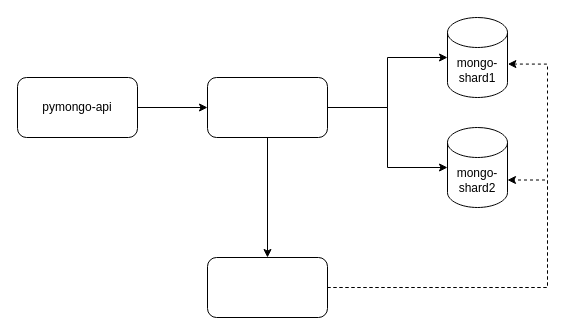
The diagram is 573 pixels wide and 335 high, and some of its shapes have lost their labels. The box of each missing label's shape, as (x1, y1, x2, y2) in pixels:
config server: (206, 256, 328, 318)
rourter: (206, 76, 328, 138)
